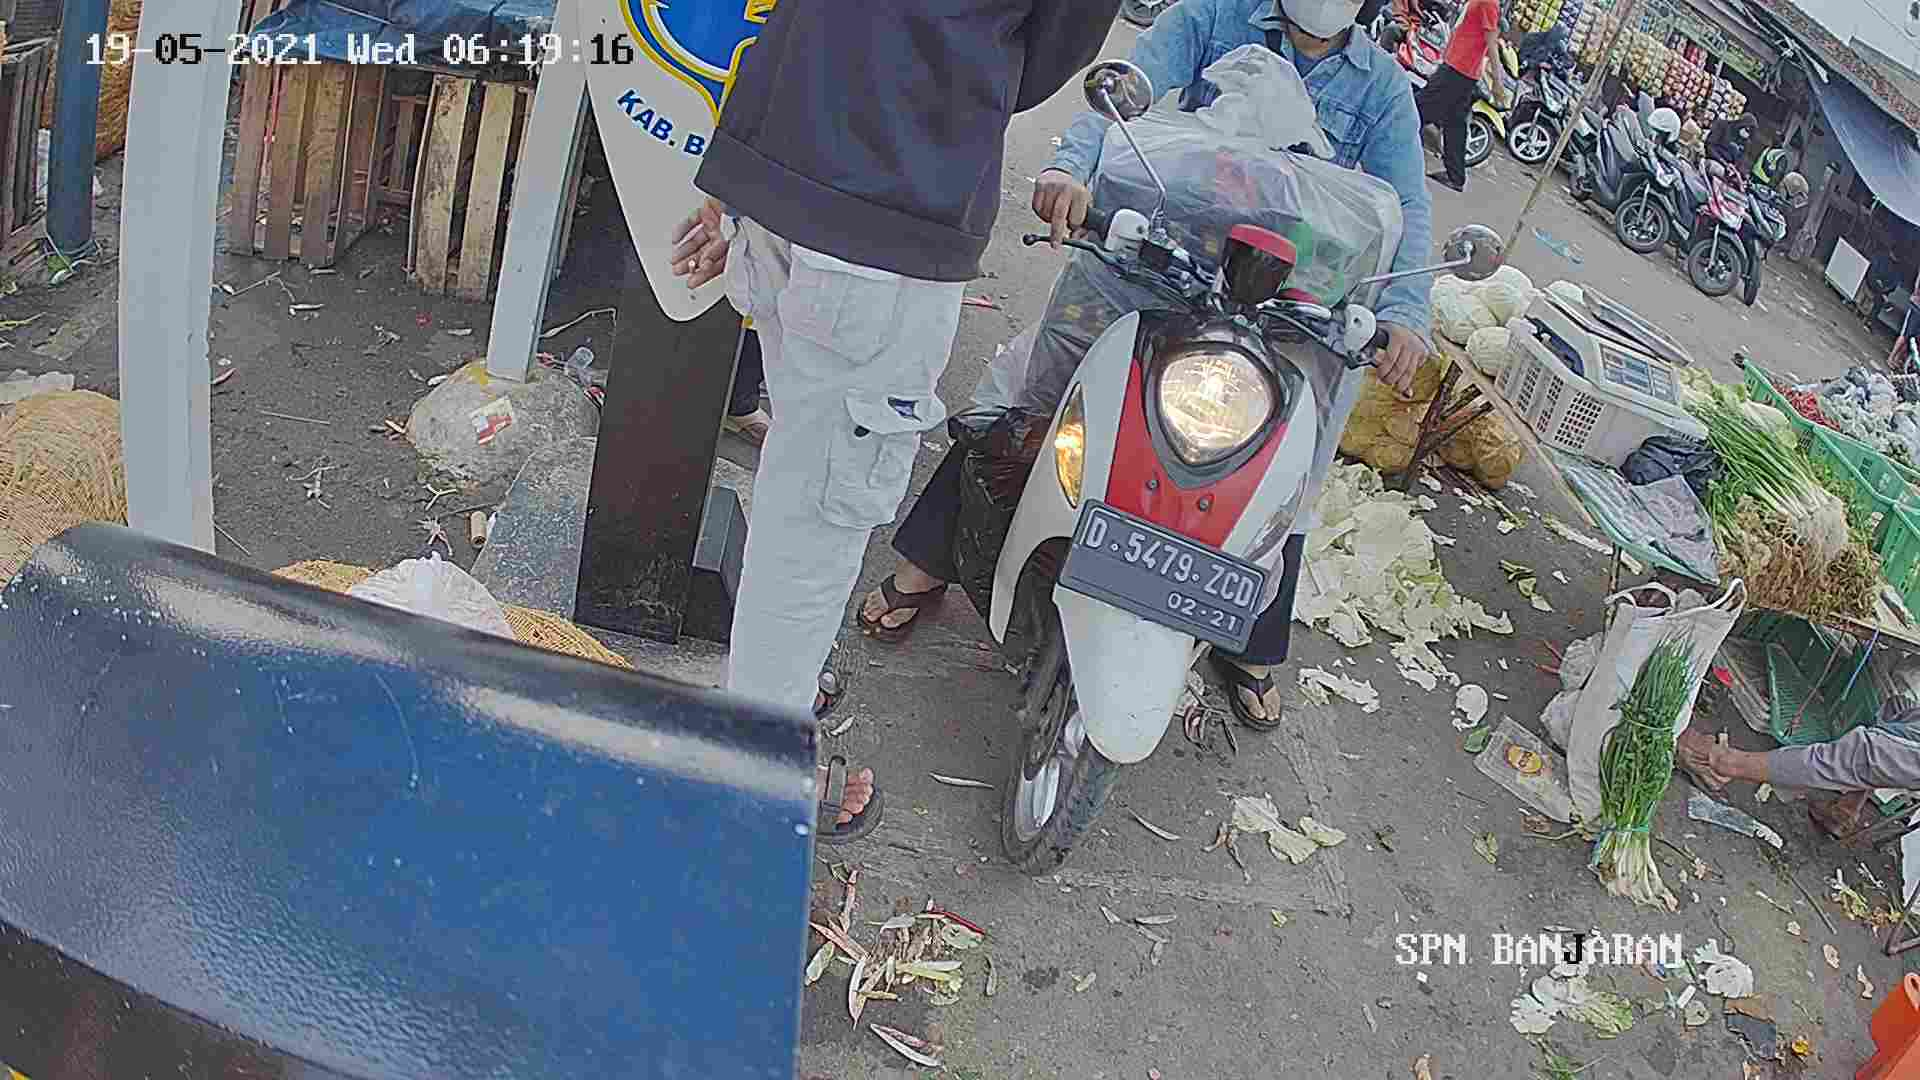motor: (939, 281, 1408, 891)
